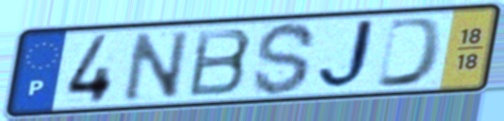4: (62, 32, 116, 106)
B: (185, 26, 256, 100)
D: (372, 15, 447, 90)
J: (315, 16, 384, 94)
N: (121, 27, 193, 104)
S: (249, 20, 320, 98)
